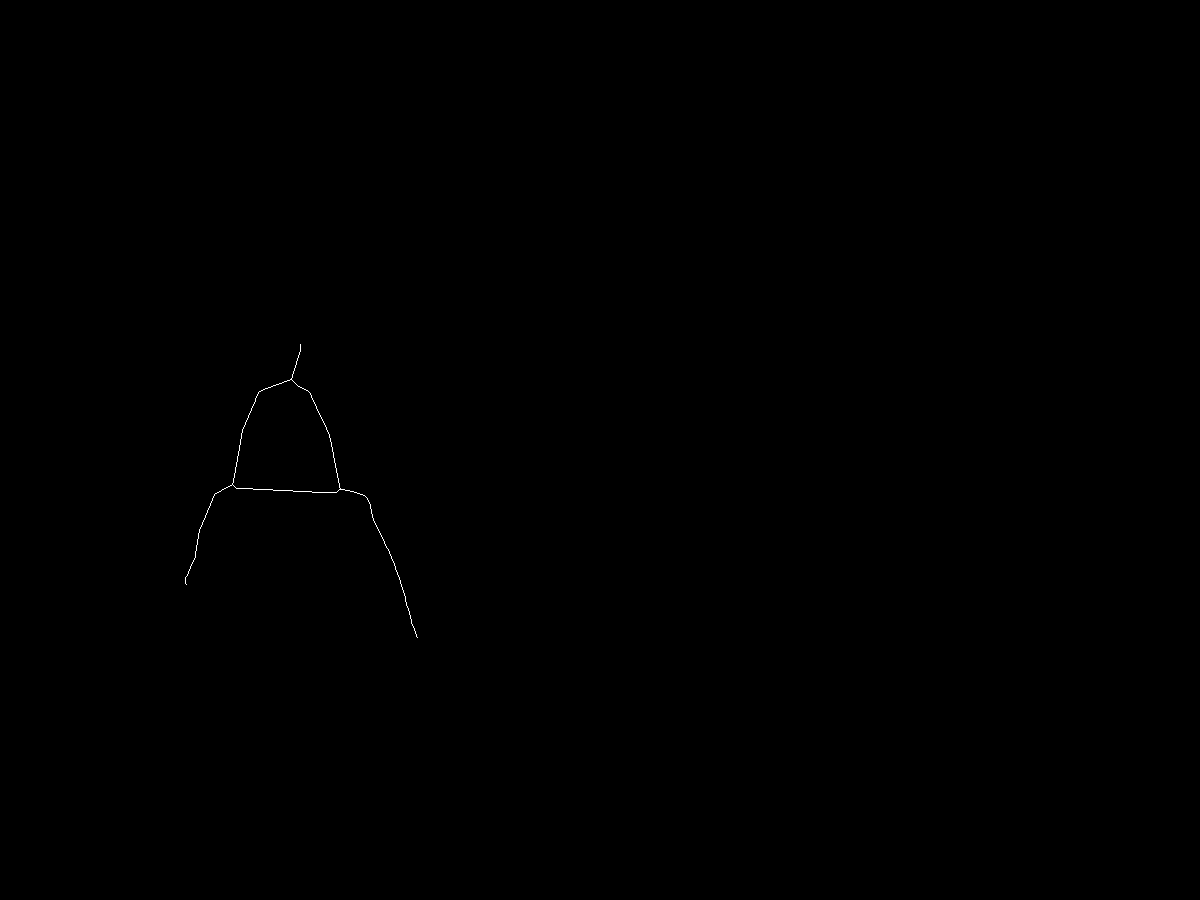dian1: (283, 372, 301, 390)
dian2: (227, 482, 241, 496)
dian3: (180, 570, 200, 590)
dian4: (332, 483, 348, 499)
dian5: (405, 628, 425, 648)
